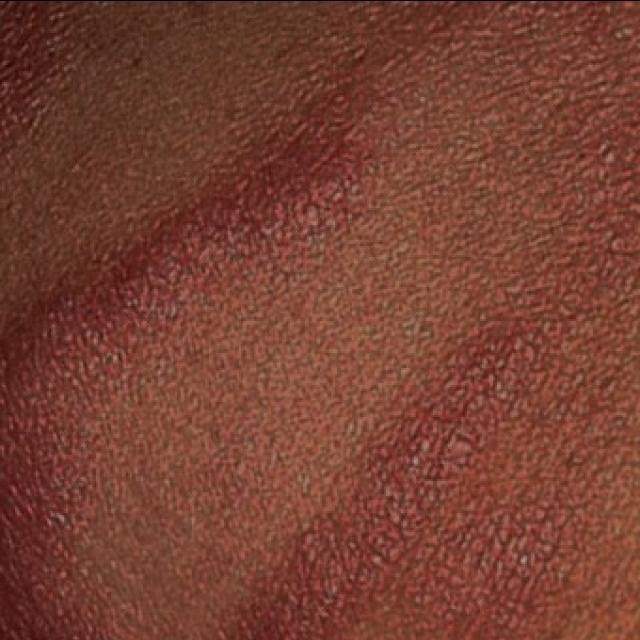Leprosy: (233, 243, 604, 640), (0, 0, 450, 318), (0, 282, 109, 640)
